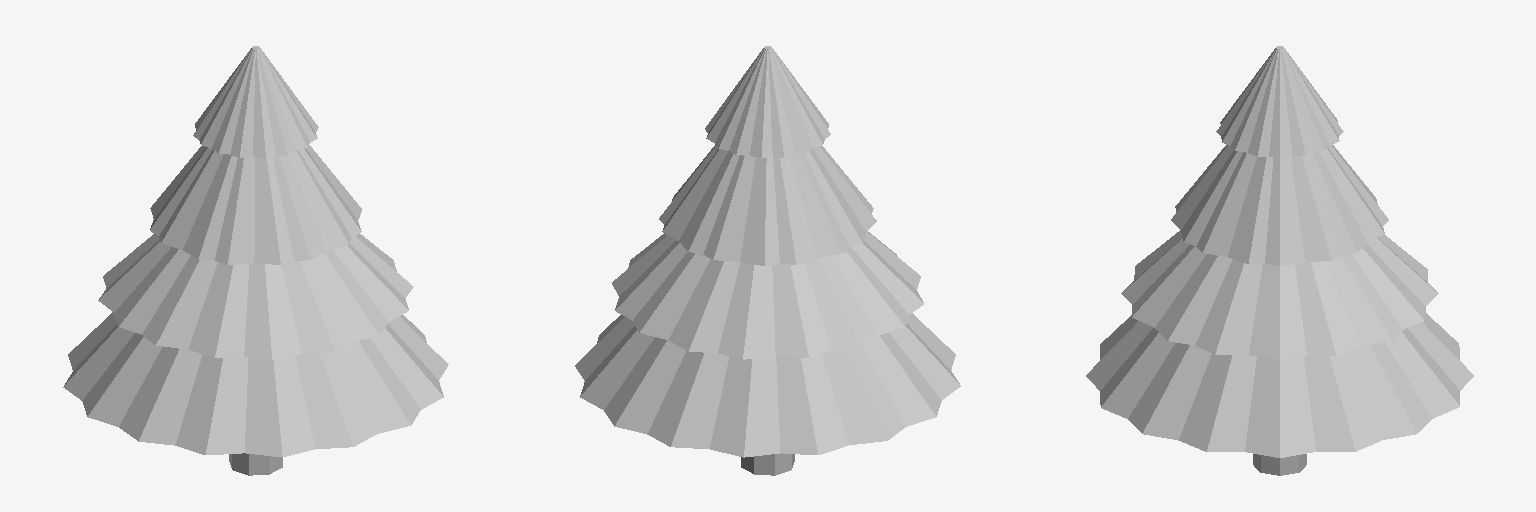
File: tree_pine_02.obj
The picture shows the model from 3 angles: view 1: azimuth 30°, elevation 25°; view 2: azimuth 150°, elevation 25°; view 3: azimuth 270°, elevation 25°; orthographic projection.
Visible parts, largest first — view 1: Tree1; view 2: Tree1; view 3: Tree1.
Boxes of the visible parts, x1=… form: Tree1: x1=63, y1=46, x2=448, y2=475; Tree1: x1=575, y1=46, x2=960, y2=475; Tree1: x1=1086, y1=46, x2=1473, y2=475.
Bounding box in the file's own units: 3.18 × 3.75 × 3.18.